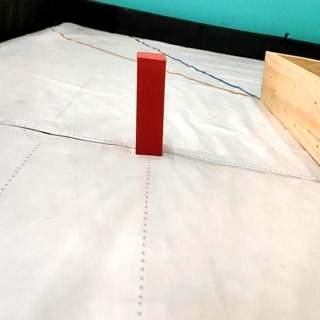redbox: (135, 50, 166, 156)
